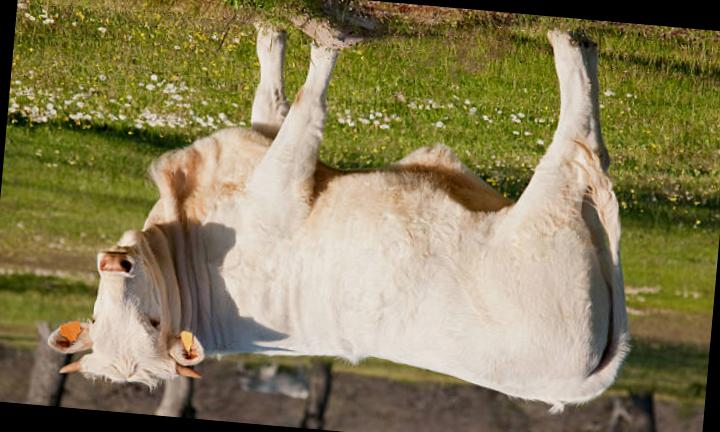Charolais: (48, 31, 628, 411)
